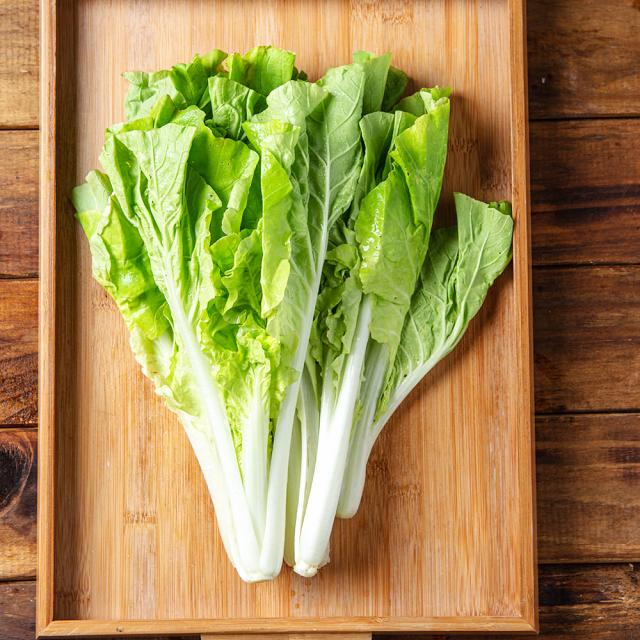chinese_cabbage: (91, 62, 507, 571)
